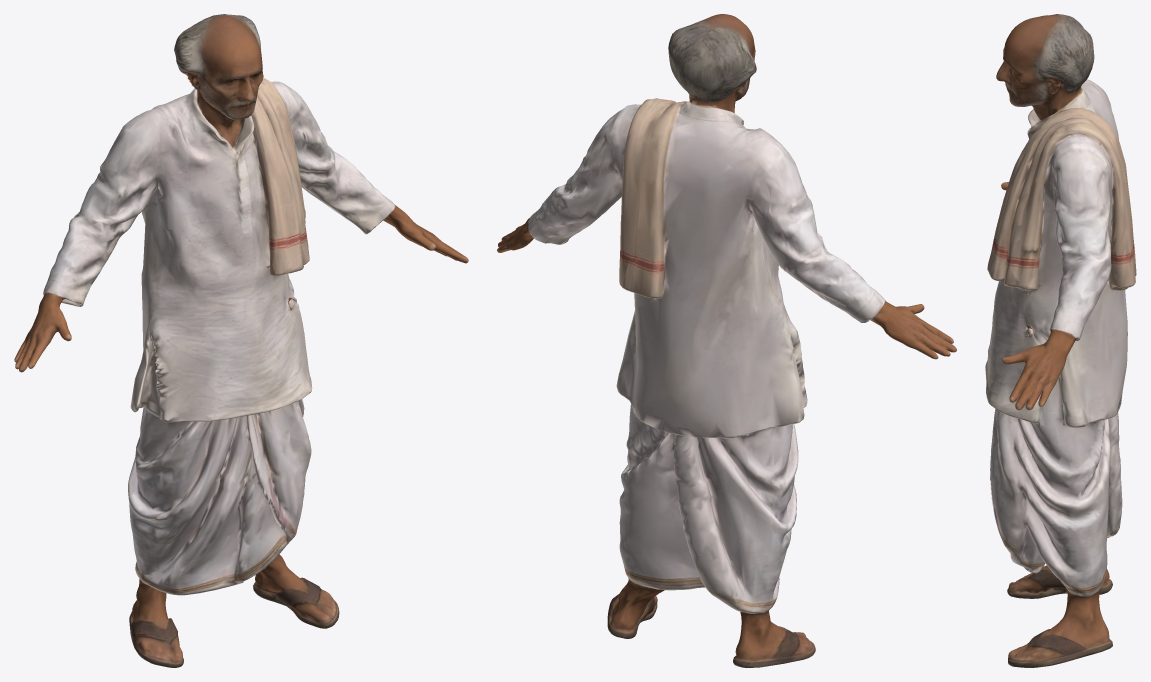
The model's file is npc-elderdhoti.glb.
The picture shows the model from 3 angles, left to right: view 1: azimuth 30°, elevation 25°; view 2: azimuth 150°, elevation 25°; view 3: azimuth 270°, elevation 25°; orthographic projection. The views are drawn at different scales.
Parts seen in each view (by area): view 1: SK_NPC_ElderDhoti; view 2: SK_NPC_ElderDhoti; view 3: SK_NPC_ElderDhoti.
Boxes of the visible parts, x1,y1,x2,y2 form: SK_NPC_ElderDhoti: [14, 14, 468, 667]; SK_NPC_ElderDhoti: [497, 14, 956, 667]; SK_NPC_ElderDhoti: [985, 14, 1136, 667].
Bounding box in the file's own units: 143 × 188 × 42.2.
Materials: 1 (1 with a texture image).
